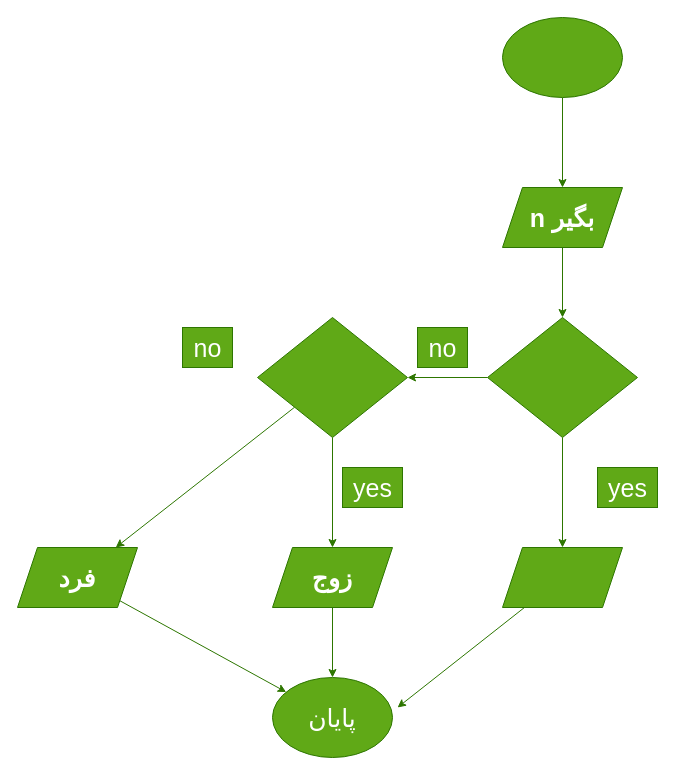
Image size: 675x775. Some labels were removed from this diagram. Each missing label, with the centre of its shape:
"n % 2 = 0" belongs at (332,377).
"n = 0" belongs at (562,377).
"شروع" belongs at (562,57).
"صفر" belongs at (562,577).
